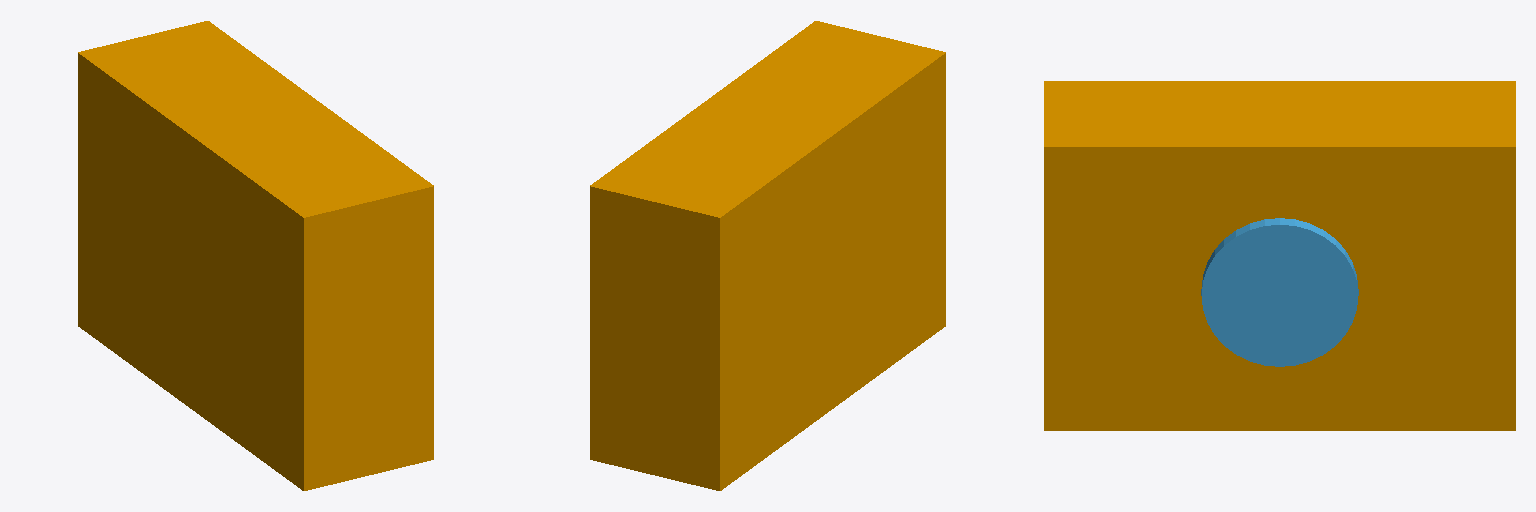
The robot description file, URDF, robot "camera":
<?xml version="1.0" ?>
<robot name="camera" xmlns:body="http://playerstage.sourceforge.net/gazebo/xmlschema/#body" xmlns:controller="http://playerstage.sourceforge.net/gazebo/xmlschema/#controller" xmlns:geom="http://playerstage.sourceforge.net/gazebo/xmlschema/#geom"  xmlns:sensor="http://playerstage.sourceforge.net/gazebo/xmlschema/#sensor" xmlns:xacro="http://ros.org/wiki/xacro">
  <link name="camera_base">
    <inertial>
      <mass value="1"/>
      <origin xyz="0 0 0"/>
      <inertia ixx="0.1" ixy="0.0" ixz="0.0" iyy="0.1" iyz="0.0" izz="0.1"/>
    </inertial>
    <visual>
      <origin xyz="0 0 0" rpy="0 0 0"/>
      <geometry>
        <box size="0.05 0.15 0.1"/>
      </geometry>
    </visual>
  </link>
  
  <link name="camera_link">
    <inertial>
      <mass value="1"/>
      <origin xyz="0 0 0"/>
      <inertia ixx="0.1" ixy="0.0" ixz="0.0" iyy="0.1" iyz="0.0" izz="0.1"/>
    </inertial>
    <visual>
      <origin xyz="0 0 0" rpy="0 1.5708 0"/>
      <geometry>
        <cylinder length="0.005" radius="0.025"/>
      </geometry>
    </visual>
  </link>

  <joint name="fixed_joint" type="fixed">
    <origin xyz="-0.0275 0 0" rpy="0 0 0"/>
    <parent link="camera_link"/>
    <child link="camera_base"/>
  </joint>

  <gazebo reference="camera_link">
    <material>Gazebo/Red</material>
  </gazebo>
  
  <gazebo reference="camera_base">
    <material>Gazebo/Blue</material>
  </gazebo>

  <gazebo reference="camera_link">
    <sensor name="rgbd_camera" type="depth">
      <update_rate>20</update_rate>
      <camera>
        <image>
          <width>400</width>
          <height>400</height>
          <format>R8G8B8</format>
        </image>
        <clip>
          <near>0.05</near>
          <far>5</far>
        </clip>
        <lens>
          <intrinsics>
            <fx>400</fx>
            <fy>400</fy>
            <cx>200.5</cx>
            <cy>200.5</cy>
            <s>0</s>
          </intrinsics>
        </lens>
      </camera>
      <plugin name="camera_link_controller" filename="libgazebo_ros_openni_kinect.so">
        <baseline>0.2</baseline>
        <alwaysOn>true</alwaysOn>
        <updateRate>1.0</updateRate>
        <cameraName>rgbd_camera</cameraName>
        <imageTopicName>rgb_image_raw</imageTopicName>
        <cameraInfoTopicName>camera_info</cameraInfoTopicName>
        <depthImageTopicName>depth_image_raw</depthImageTopicName>
        <depthImageInfoTopicName>depth_camera_info</depthImageInfoTopicName>
        <pointCloudTopicName>/point_cloud</pointCloudTopicName>
        <frameName>camera_link</frameName>
        <pointCloudCutoff>0.05</pointCloudCutoff>
        <pointCloudCutoffMax>10</pointCloudCutoffMax>
        <distortionK1>0.0</distortionK1>
        <distortionK2>0.0</distortionK2>
        <distortionK3>0.0</distortionK3>
        <distortionT1>0.0</distortionT1>
        <distortionT2>0.0</distortionT2>
        <!--CxPrime>0</CxPrime-->
        <Cx>200.5</Cx>
        <Cy>200.5</Cy>
        <focalLength>400</focalLength>
        <hackBaseline>0</hackBaseline>
      </plugin>
    </sensor>
    <turnGravityOff>true</turnGravityOff>
  </gazebo>
</robot>

--- Render facts (derived) ---
3 views of the same robot in one strip: view 1: azimuth 30°, elevation 25°; view 2: azimuth 150°, elevation 25°; view 3: azimuth 270°, elevation 25° (orthographic).
Model camera with 2 links and 1 joints (1 fixed), rooted at camera_link, posed all joints at 0.
Visible links, largest first — view 1: camera_base; view 2: camera_base; view 3: camera_base, camera_link.
Link boxes in pixels (left/top/right/bottom): camera_base: left=78, top=21, right=433, bottom=490; camera_base: left=590, top=21, right=945, bottom=490; camera_base: left=1044, top=81, right=1515, bottom=430; camera_link: left=1201, top=218, right=1358, bottom=366.
Bounding box of the posed robot: 0.055 × 0.15 × 0.1 m (x, y, z).
Geometry: primitives only (box / cylinder / sphere), no mesh files.
